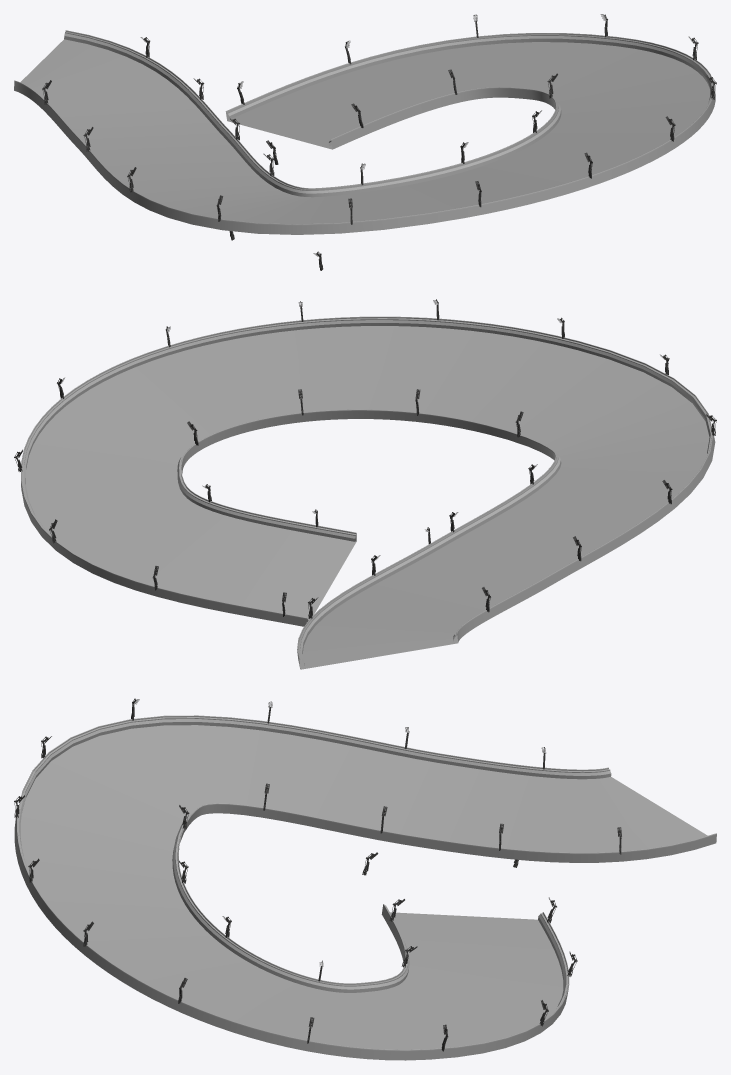
File: MainMenu_Track.fbx
3 renders of one model, top to bottom at view 1: azimuth 30°, elevation 25°; view 2: azimuth 150°, elevation 25°; view 3: azimuth 270°, elevation 25°, orthographic. The views are drawn at different scales.
Parts seen in each view (by area): view 1: Track2, MASH3_ReproMesh1, MASH2_ReproMesh1; view 2: Track2, MASH3_ReproMesh1, MASH2_ReproMesh1; view 3: Track2, MASH3_ReproMesh1, MASH2_ReproMesh1.
Part boxes in pixels (<box>): Track2: <box>14,30,715,234</box>; MASH3_ReproMesh1: <box>42,14,716,224</box>; MASH2_ReproMesh1: <box>140,37,557,270</box>; Track2: <box>21,316,715,669</box>; MASH3_ReproMesh1: <box>14,299,716,616</box>; MASH2_ReproMesh1: <box>187,389,537,618</box>; Track2: <box>14,715,716,1060</box>; MASH3_ReproMesh1: <box>14,698,577,1051</box>; MASH2_ReproMesh1: <box>178,783,621,981</box>.
Bounding box in the file's own units: 6580 × 1320 × 6547.
